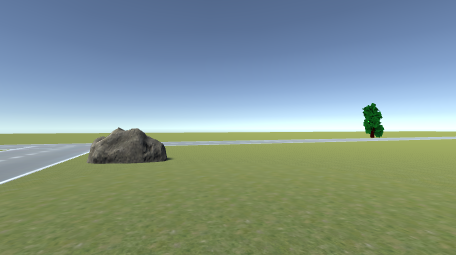rock: (87, 127, 171, 164)
tree: (363, 102, 386, 139)
